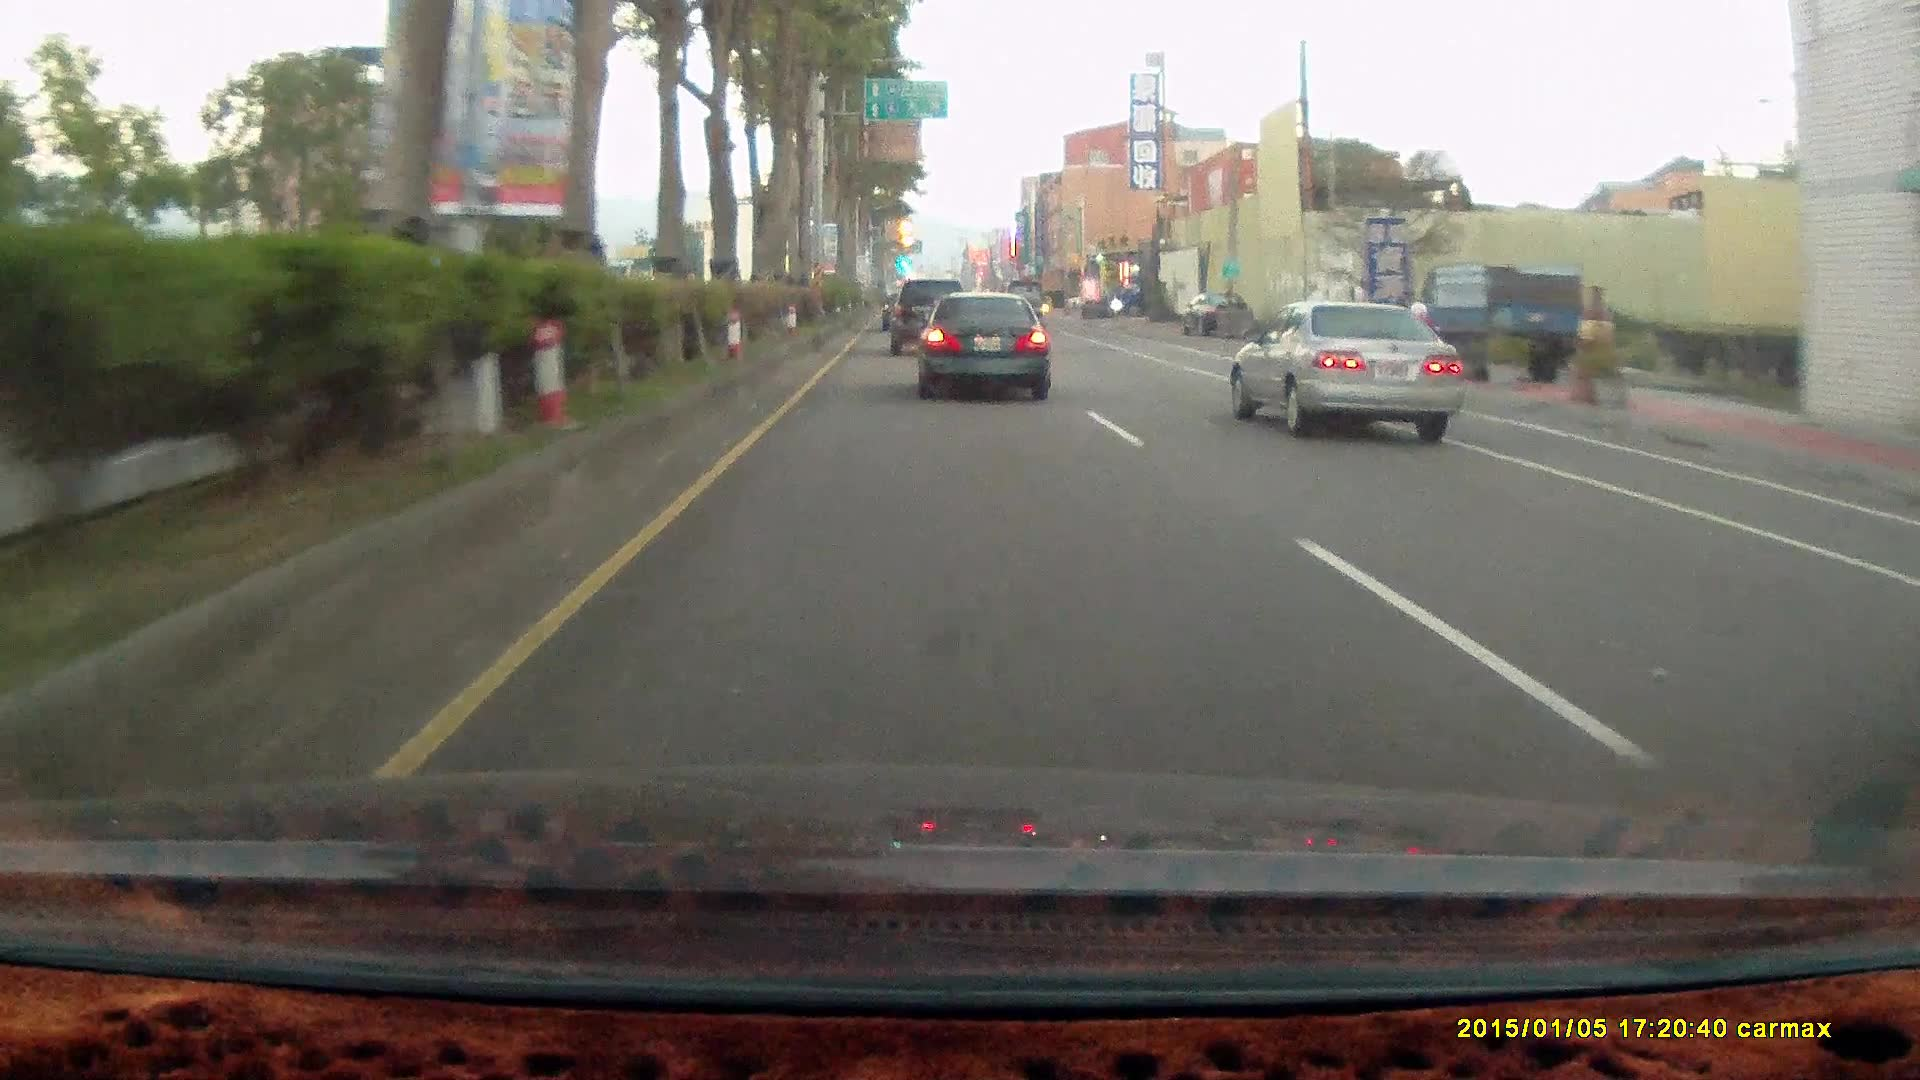vehicle: (1222, 302, 1476, 446), (1229, 301, 1465, 443), (1418, 265, 1582, 385), (1418, 264, 1581, 382), (913, 293, 1050, 402), (920, 297, 1055, 404), (887, 280, 969, 357), (1182, 294, 1261, 344), (1108, 280, 1176, 320), (997, 278, 1044, 327)
